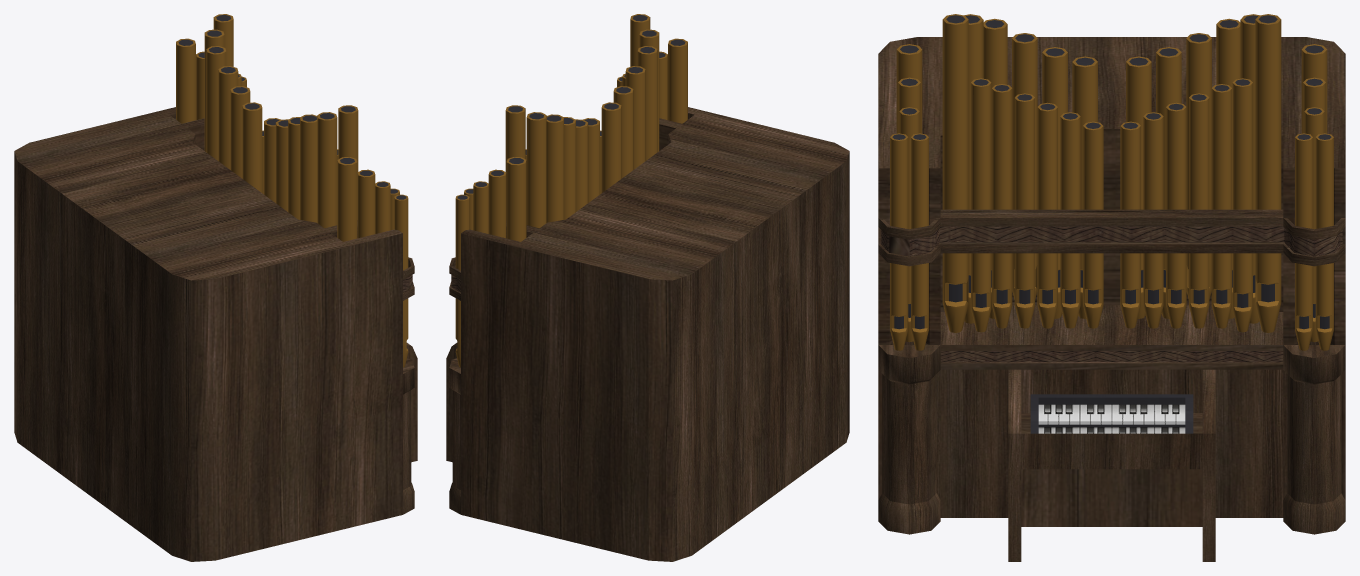
Rendered from Piano_Organ.fbx.
3 renders of one model, left to right at view 1: azimuth 30°, elevation 25°; view 2: azimuth 150°, elevation 25°; view 3: azimuth 270°, elevation 25°, orthographic. The views are drawn at different scales.
Visible parts, largest first — view 1: Organ; view 2: Organ; view 3: Organ.
Part boxes in pixels (left/top/right/bottom): Organ: left=14, top=14, right=417, bottom=561; Organ: left=446, top=14, right=849, bottom=561; Organ: left=878, top=14, right=1345, bottom=561.
Bounding box in the file's own units: 2.25 × 1.96 × 2.59.
